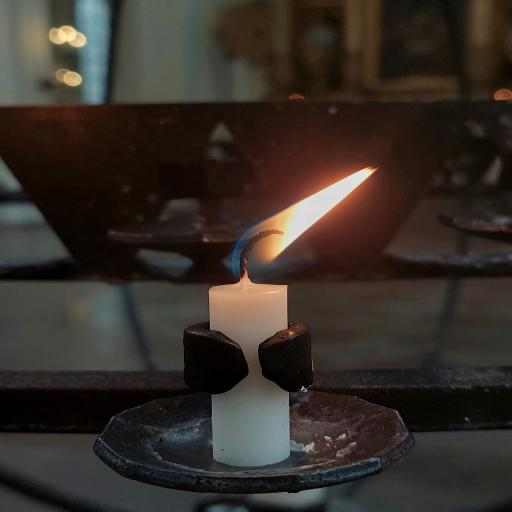candlelight: (203, 232, 301, 469)
